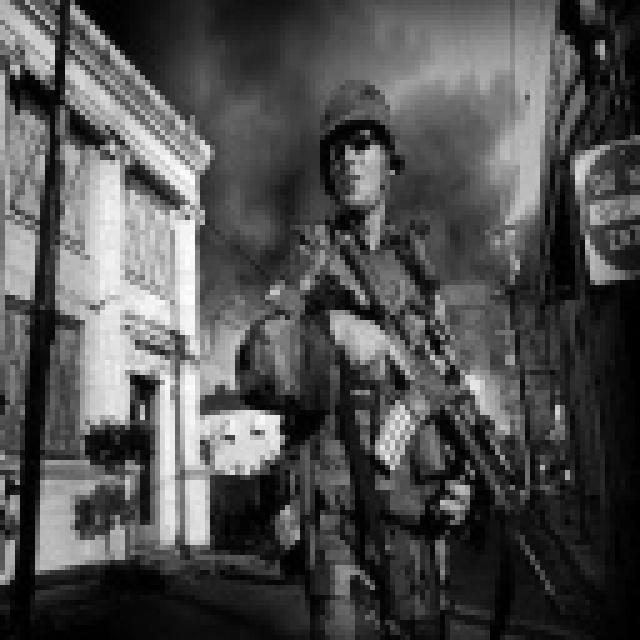Rifle: (319, 217, 640, 640)
